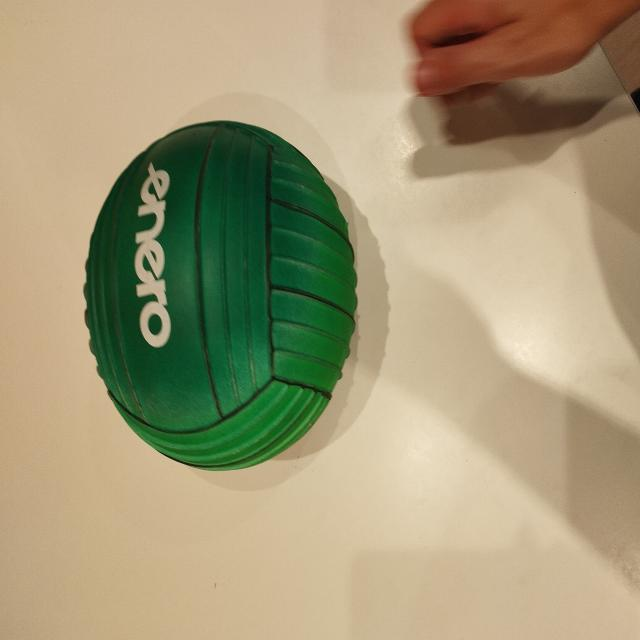zielona: (84, 118, 359, 474)
